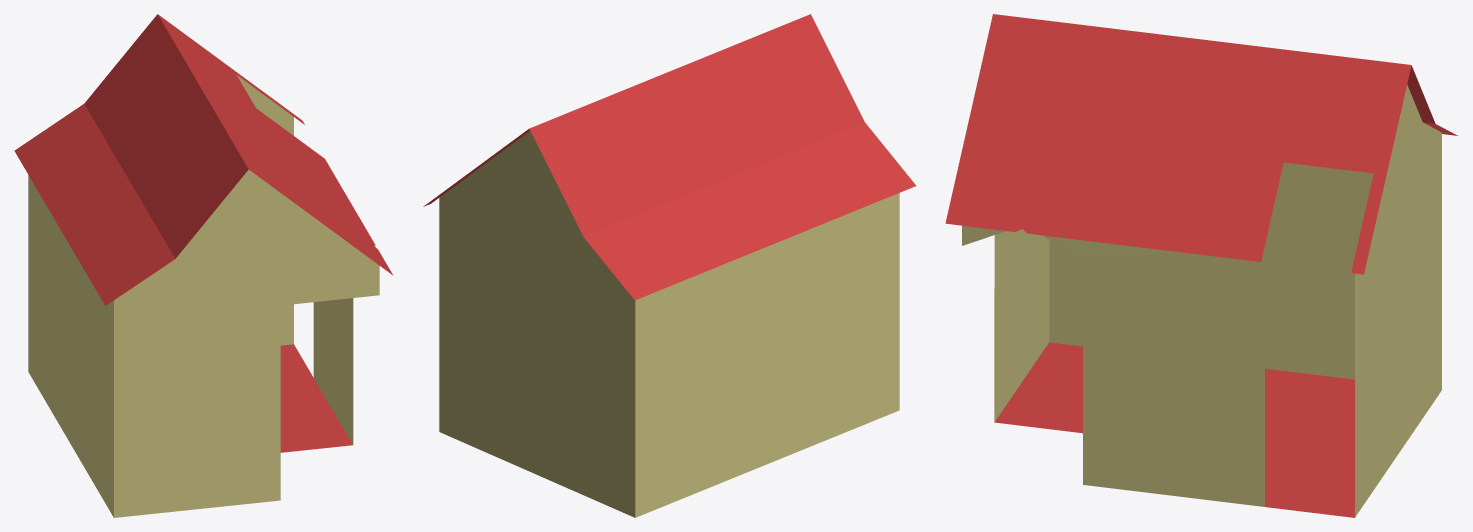
3 renders of one model, left to right at view 1: azimuth 30°, elevation 25°; view 2: azimuth 150°, elevation 25°; view 3: azimuth 270°, elevation 25°, orthographic. The views are drawn at different scales.
Bounding box in the file's own units: 16.72 × 19.12 × 16.04.
